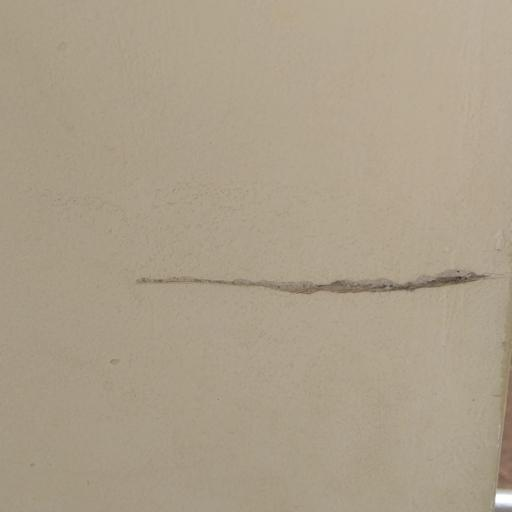stain: (130, 242, 512, 307)
